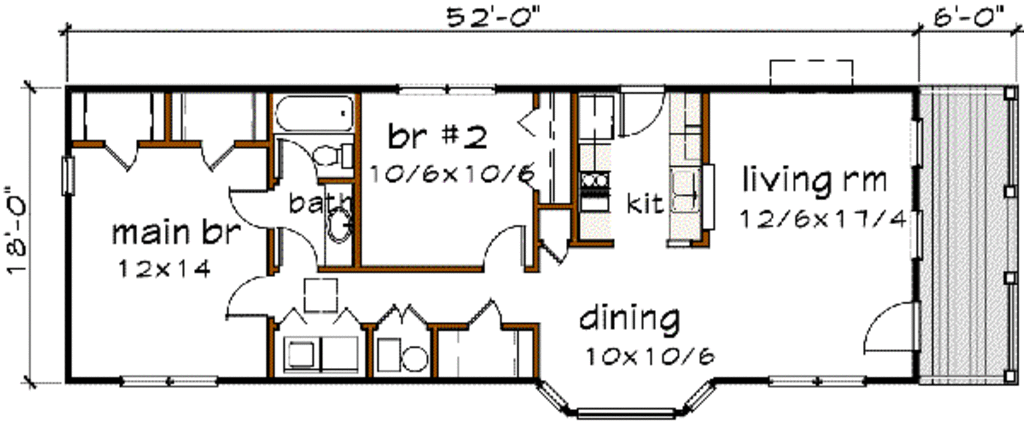door: (865, 300, 932, 354), (617, 85, 671, 137), (217, 270, 274, 319), (479, 220, 525, 273), (271, 139, 319, 184), (275, 224, 321, 270), (225, 188, 270, 229), (196, 132, 234, 172), (466, 296, 511, 328), (100, 136, 140, 170), (369, 304, 431, 325)
large_sink: (305, 139, 352, 173)
small_sink: (320, 189, 361, 265)
tub: (269, 96, 352, 134)
twin_sink: (669, 169, 705, 211)
window: (534, 379, 721, 416), (117, 371, 224, 387), (768, 373, 872, 386), (395, 86, 498, 99), (702, 168, 722, 233), (54, 154, 81, 199)
